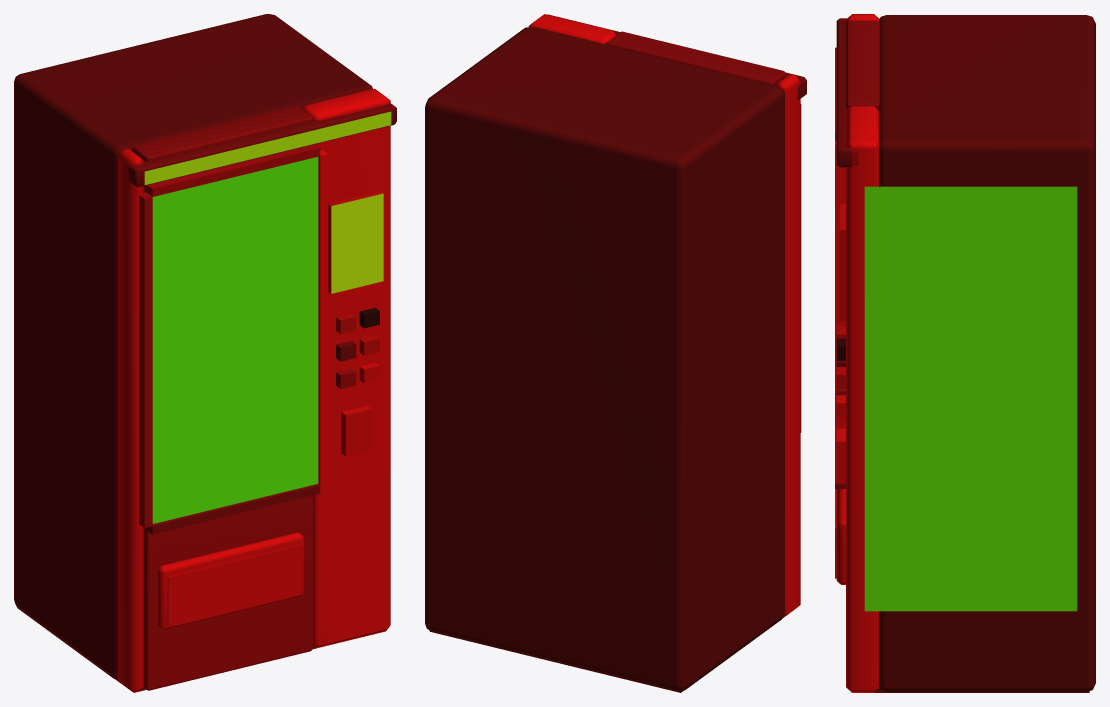
File: vending_b.glb
3 renders of one model, left to right at view 1: azimuth 30°, elevation 25°; view 2: azimuth 150°, elevation 25°; view 3: azimuth 270°, elevation 25°, orthographic. The views are drawn at different scales.
Parts seen in each view (by area): view 1: vending_b; view 2: vending_b; view 3: vending_b.
Part boxes in pixels (box(x1,y1,x2,y2)): vending_b: box(14, 14, 396, 692); vending_b: box(425, 14, 806, 692); vending_b: box(835, 14, 1095, 692).
Size of the model in its own units: 1 by 1.95 by 0.835.
